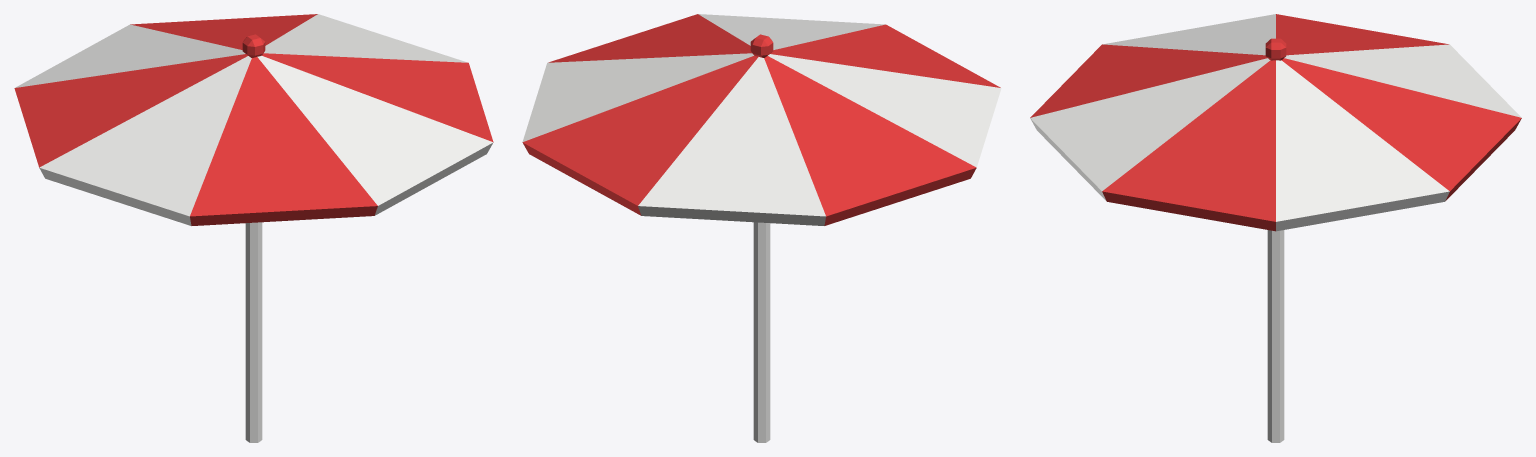
File: BeachUmbrella.fbx
3 views of the same model, side by side, from view 1: azimuth 30°, elevation 25°; view 2: azimuth 150°, elevation 25°; view 3: azimuth 270°, elevation 25° (orthographic).
Parts seen in each view (by area): view 1: BeachUmbrella; view 2: BeachUmbrella; view 3: BeachUmbrella.
Boxes of the visible parts, box(x1,y1,x2,y2) form: BeachUmbrella: box(14, 14, 493, 442); BeachUmbrella: box(522, 14, 1001, 442); BeachUmbrella: box(1030, 14, 1521, 442).
Bounding box in the file's own units: 7.2 × 6.45 × 7.2.
1 material, 1 textured.
